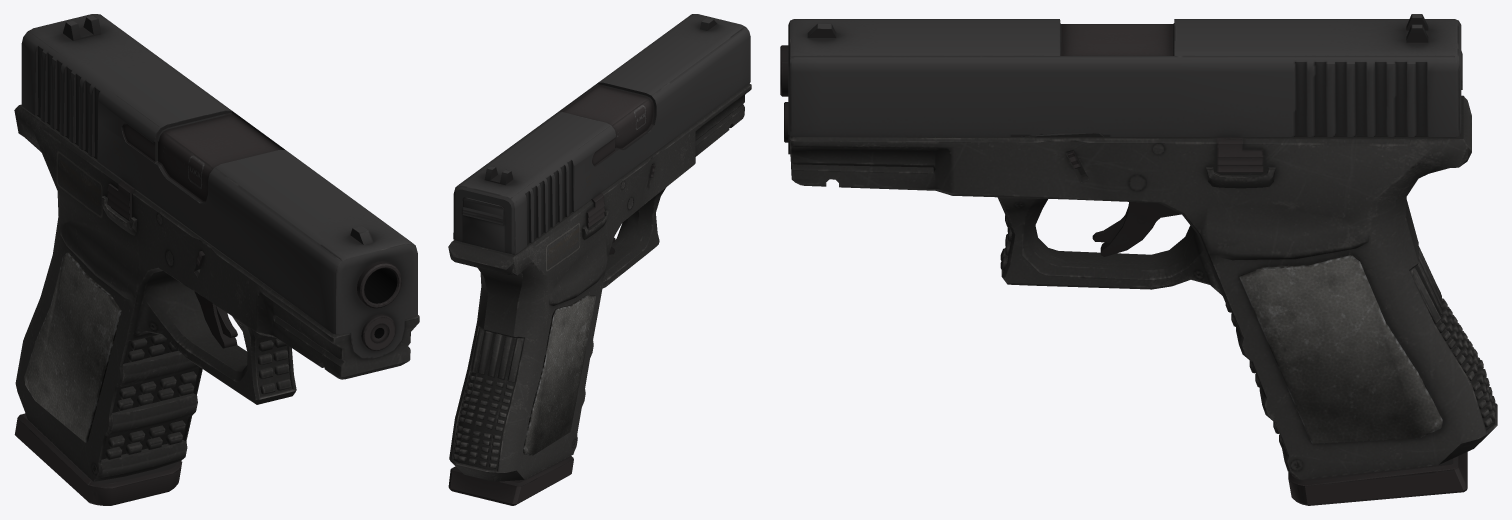
The model's file is Glock-19.glb.
3 views of the same model, side by side, from view 1: azimuth 30°, elevation 25°; view 2: azimuth 150°, elevation 25°; view 3: azimuth 270°, elevation 25° (orthographic). The views are drawn at different scales.
Visible parts, largest first — view 1: Cube.003, Cube.007, Cube.010, Cube.014; view 2: Cube.003, Cube.007, Cube.010; view 3: Cube.003, Cube.007, Cube.010, Cube.014.
Part boxes in pixels (x1,y1,x2,y2): Cube.003: [14, 104, 419, 481]; Cube.007: [21, 14, 417, 358]; Cube.010: [14, 413, 182, 505]; Cube.014: [194, 291, 237, 348]; Cube.003: [448, 83, 751, 481]; Cube.007: [453, 14, 750, 253]; Cube.010: [448, 456, 573, 505]; Cube.003: [789, 95, 1497, 479]; Cube.007: [780, 14, 1462, 154]; Cube.010: [1288, 452, 1467, 505]; Cube.014: [1092, 202, 1181, 256].
Bounding box in the file's own units: 0.0438 × 0.1894 × 0.2649.
Materials: 2 (1 with a texture image).
